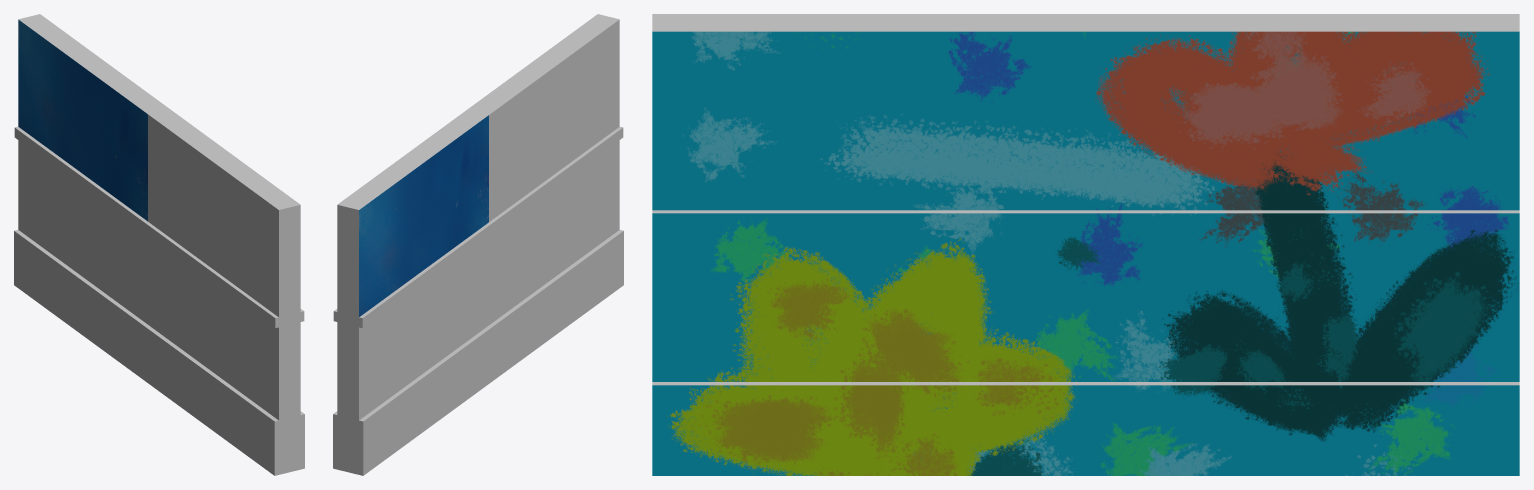
File: FinalWalls.fbx
3 renders of one model, left to right at view 1: azimuth 30°, elevation 25°; view 2: azimuth 150°, elevation 25°; view 3: azimuth 270°, elevation 25°, orthographic. The views are drawn at different scales.
Parts seen in each view (by area): view 1: Cube.008, Cube.003; view 2: Cube.003, Cube.008; view 3: Cube.003, Cube.008.
Part boxes in pixels (bbox=[...]): Cube.008: bbox=[144, 109, 304, 475]; Cube.003: bbox=[14, 14, 170, 379]; Cube.003: bbox=[333, 109, 493, 475]; Cube.008: bbox=[467, 14, 623, 380]; Cube.003: bbox=[1084, 14, 1519, 475]; Cube.008: bbox=[652, 14, 1087, 475].
Bounding box in the file's own units: 212 × 1777 × 3168.
